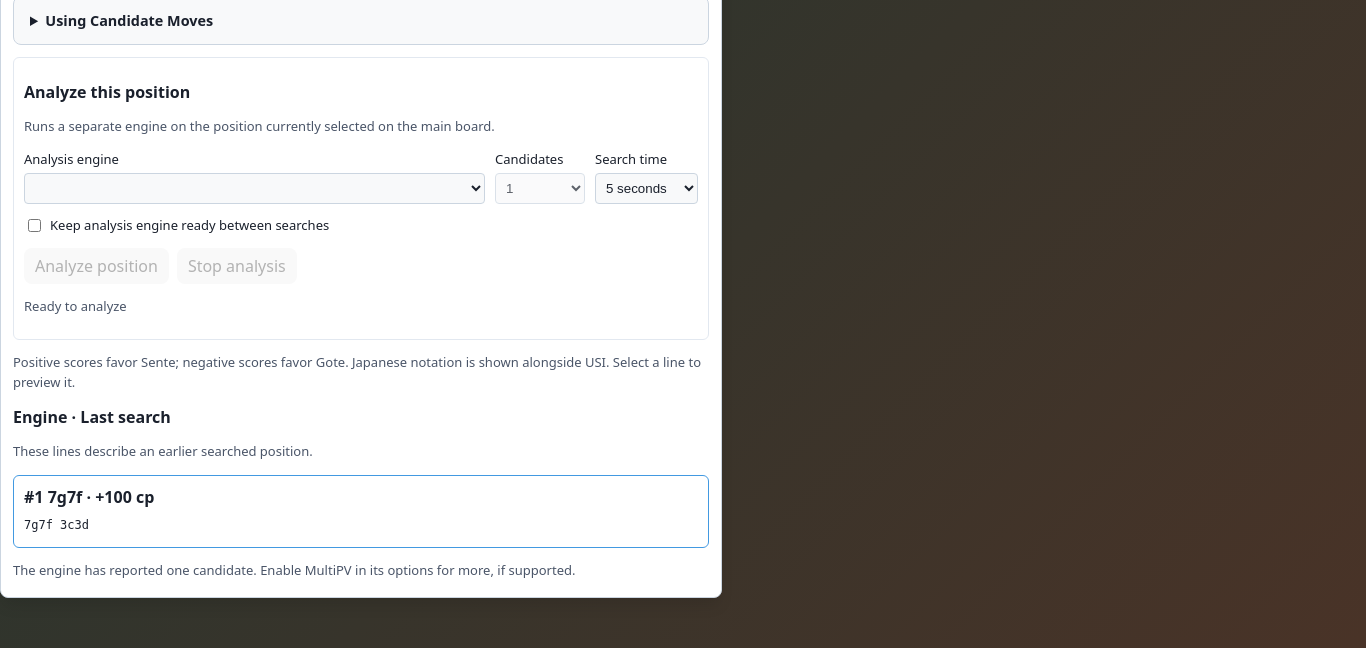
Scenario: opens comparison continuations in the shared study without changing the main record
Press Digit4
(page scrolled)
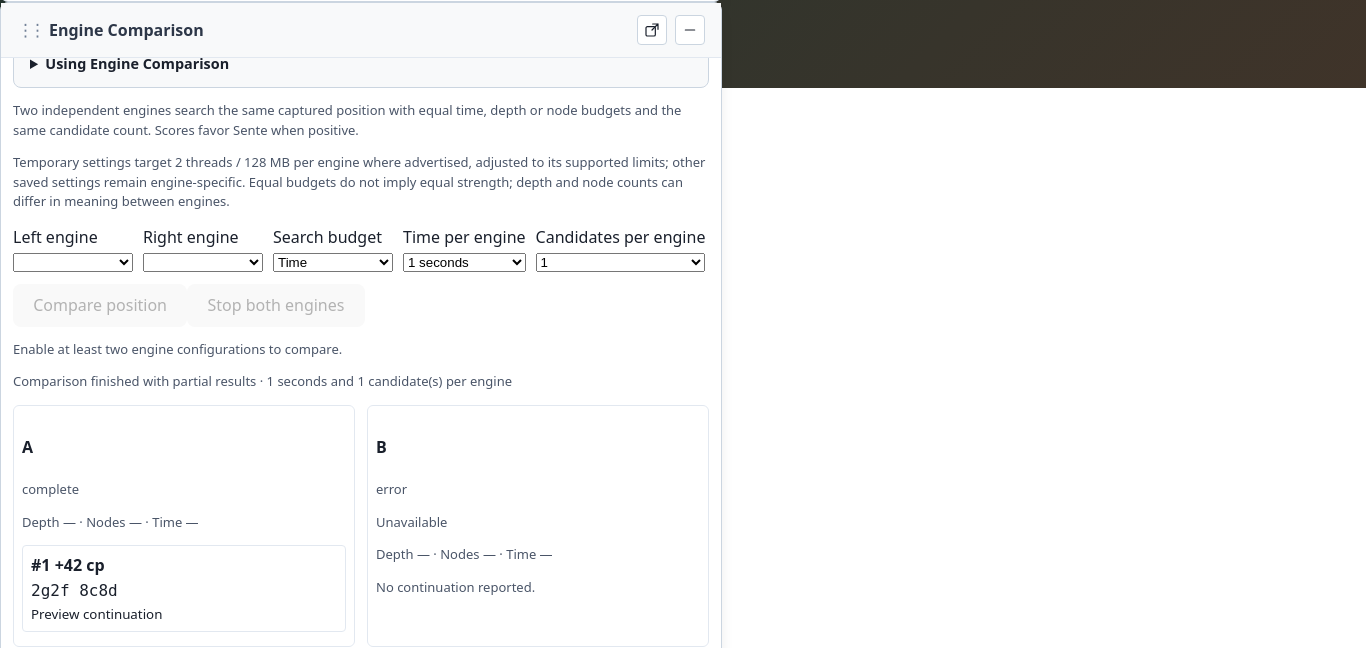
Click the button "#1 +42 cp 2g2f 8c8d Preview continuation" at point(80, 565), box [22,545,346,632]
(page scrolled)
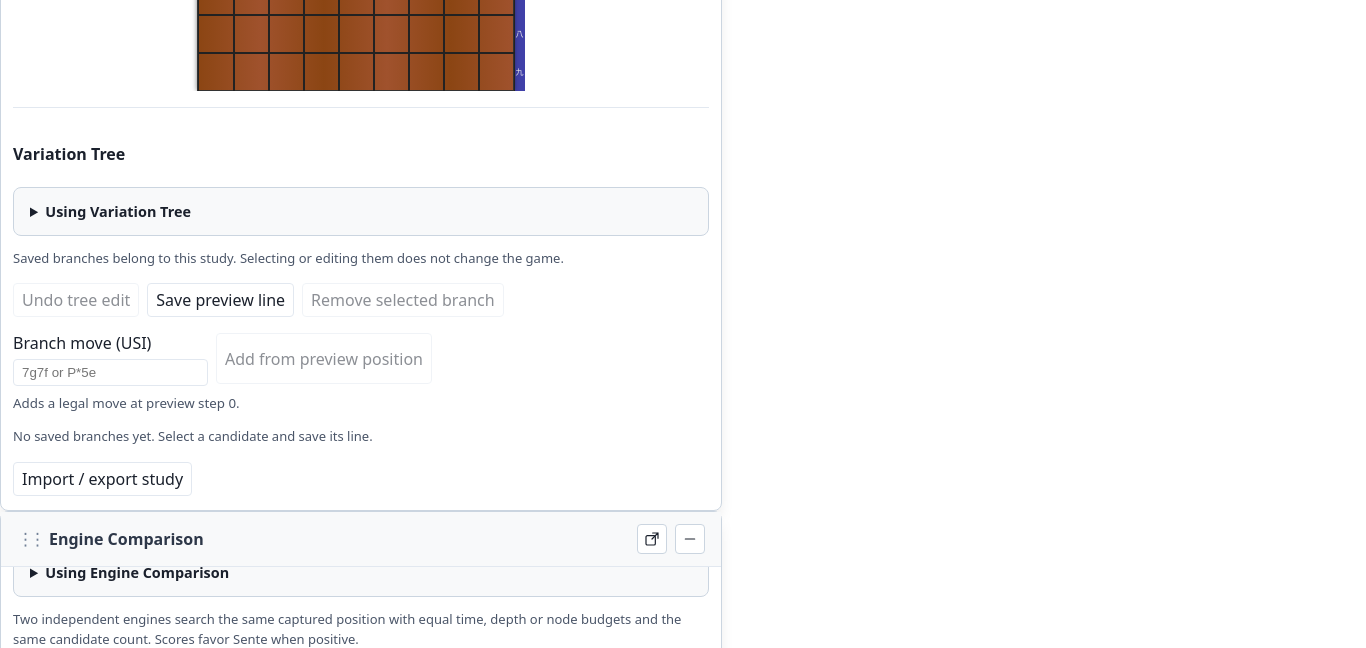
Click the button "Save preview line" at point(221, 300), box [147,283,294,317]
(page scrolled)
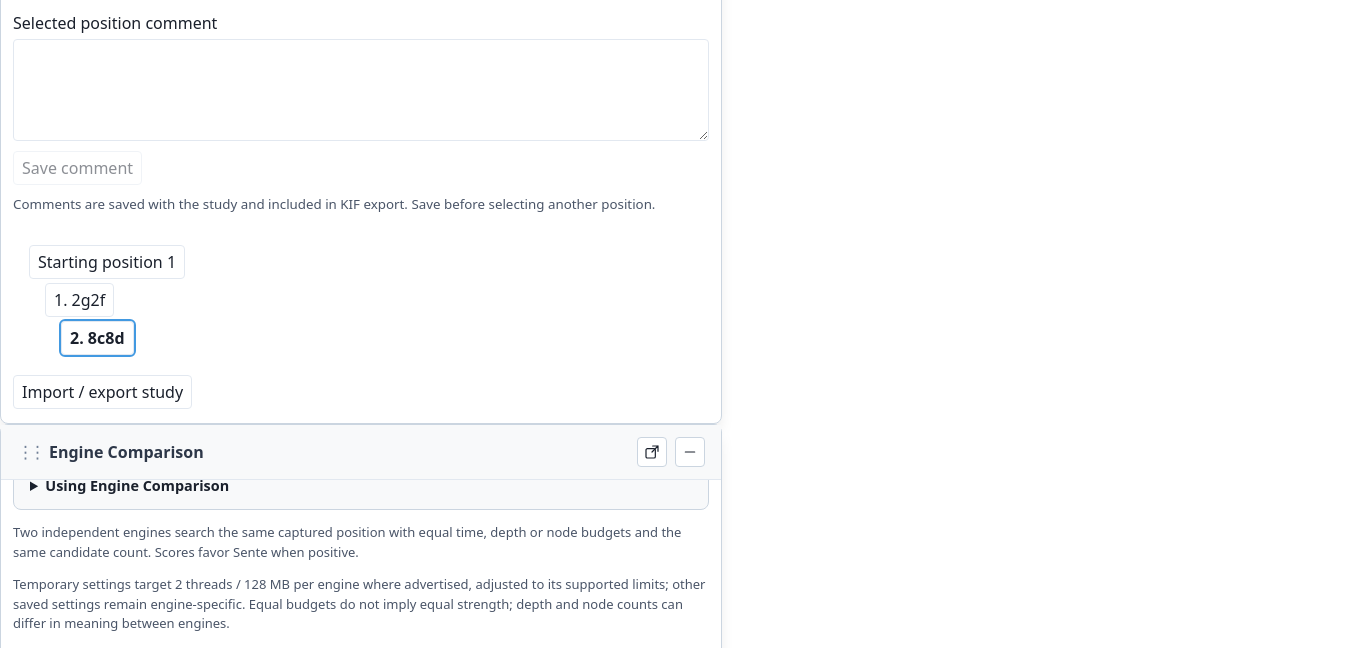
Now the button "1. 2g2f" is shown, box [45,283,114,317]
